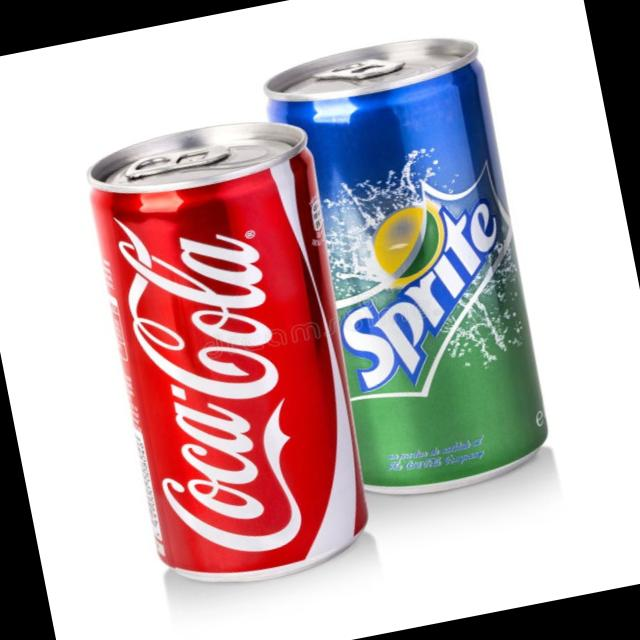sprite: (249, 32, 572, 530)
